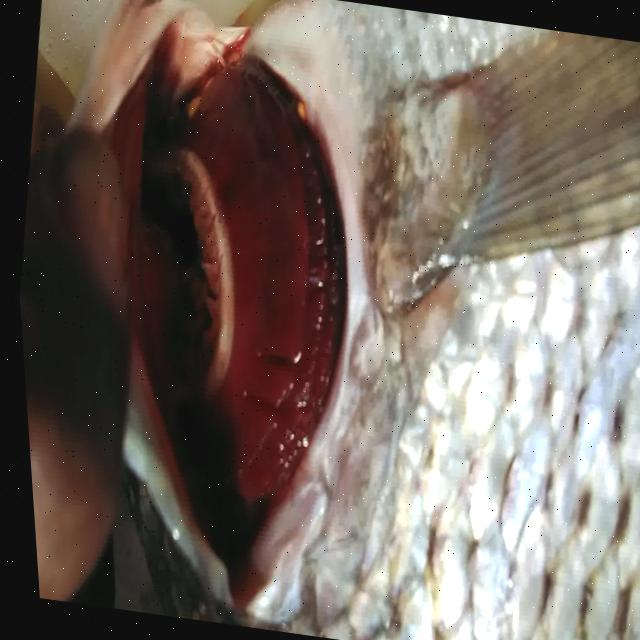Fresh: (98, 61, 378, 518)
